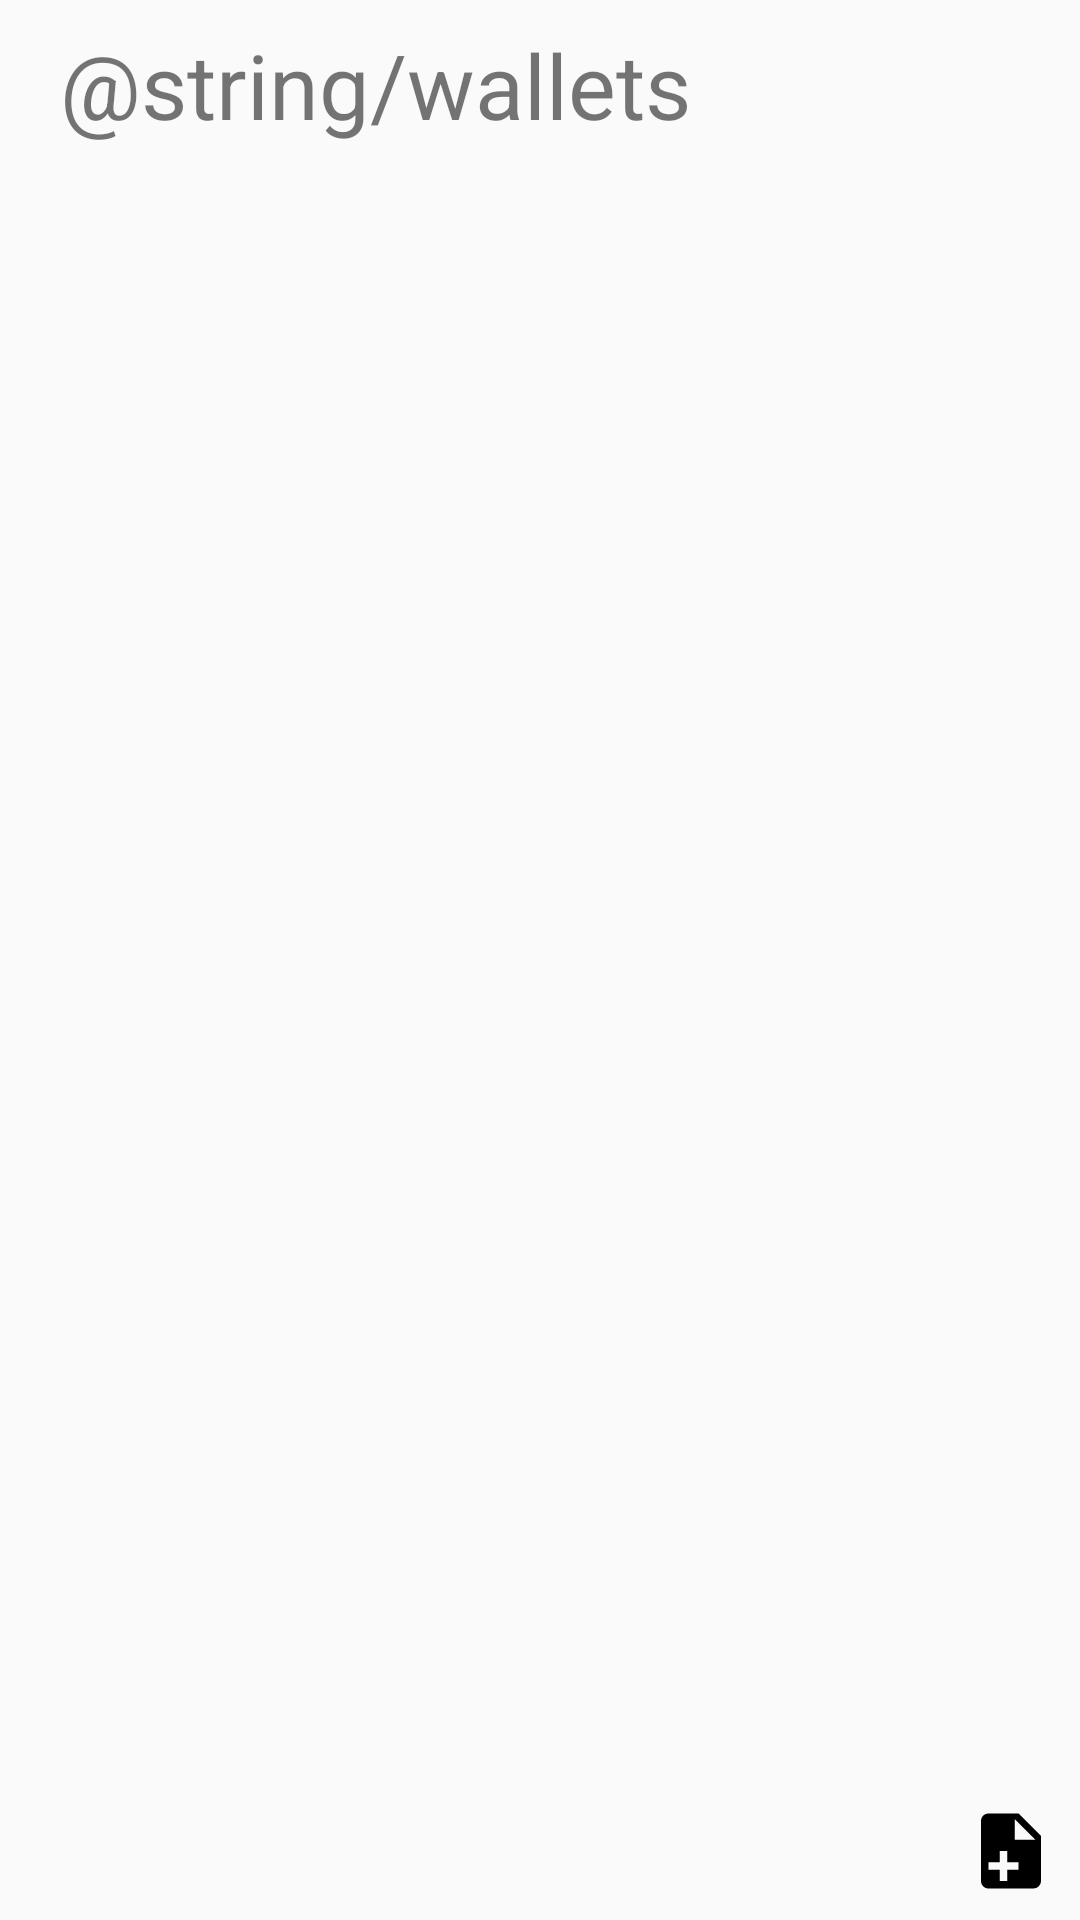

Icon click points for this 1080x1920 phone screenshot, format (x=x, y=y):
file plus: (x=1011, y=1851)
